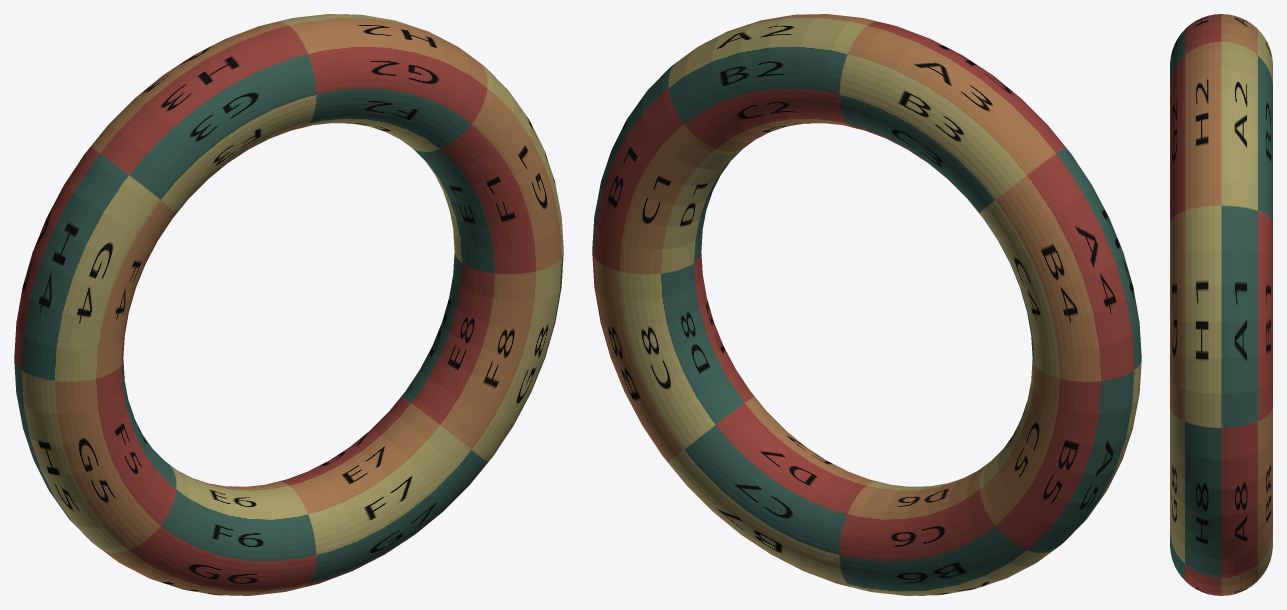
Rendered from texture_torus_R12_r7.glb.
The picture shows the model from 3 angles, left to right: view 1: azimuth 30°, elevation 25°; view 2: azimuth 150°, elevation 25°; view 3: azimuth 270°, elevation 25°; orthographic projection. The views are drawn at different scales.
Visible parts, largest first — view 1: world; view 2: world; view 3: world.
Boxes of the visible parts, bbox=[...] form: world: bbox=[14, 14, 563, 595]; world: bbox=[592, 14, 1141, 595]; world: bbox=[1170, 14, 1272, 595].
Size of the model in its own units: 21.87 by 21.82 by 3.86.
Materials: 1 (1 with a texture image).
